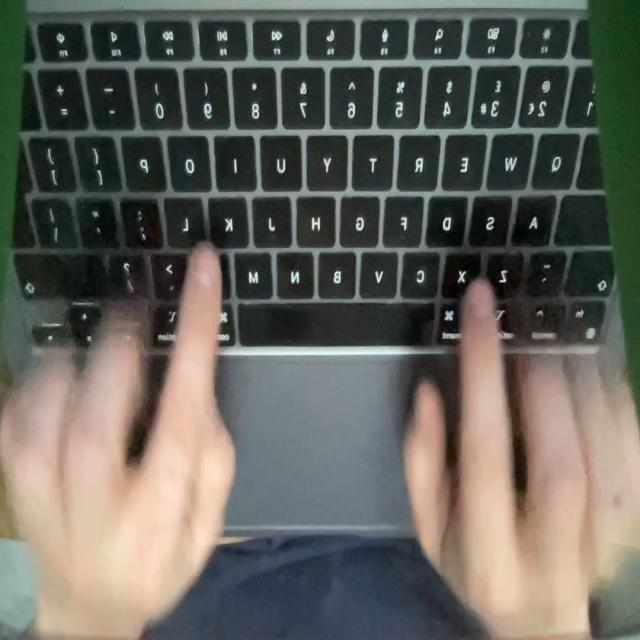keyboard-with-hands: (3, 0, 625, 542)
